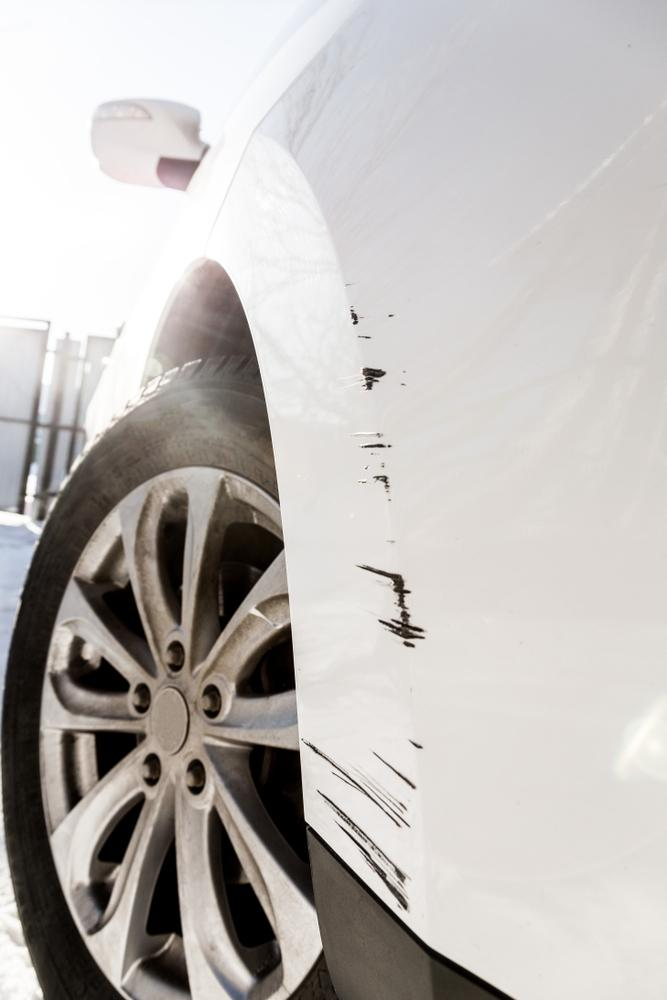scratch: (339, 284, 435, 650), (299, 731, 427, 916)
